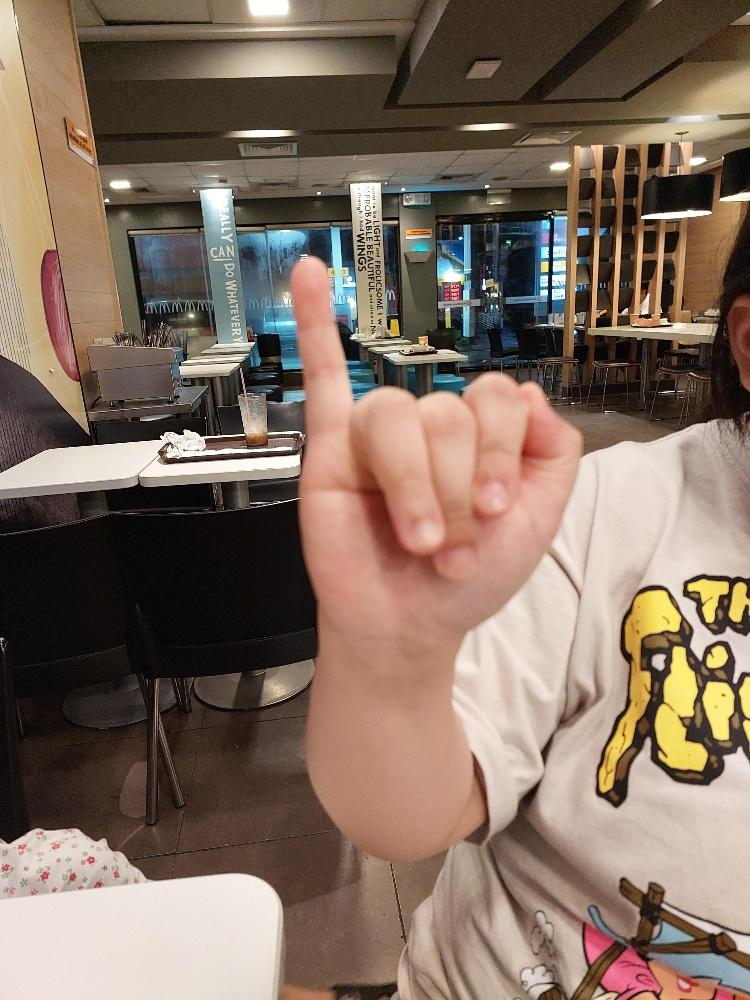i: (288, 255, 584, 645)
